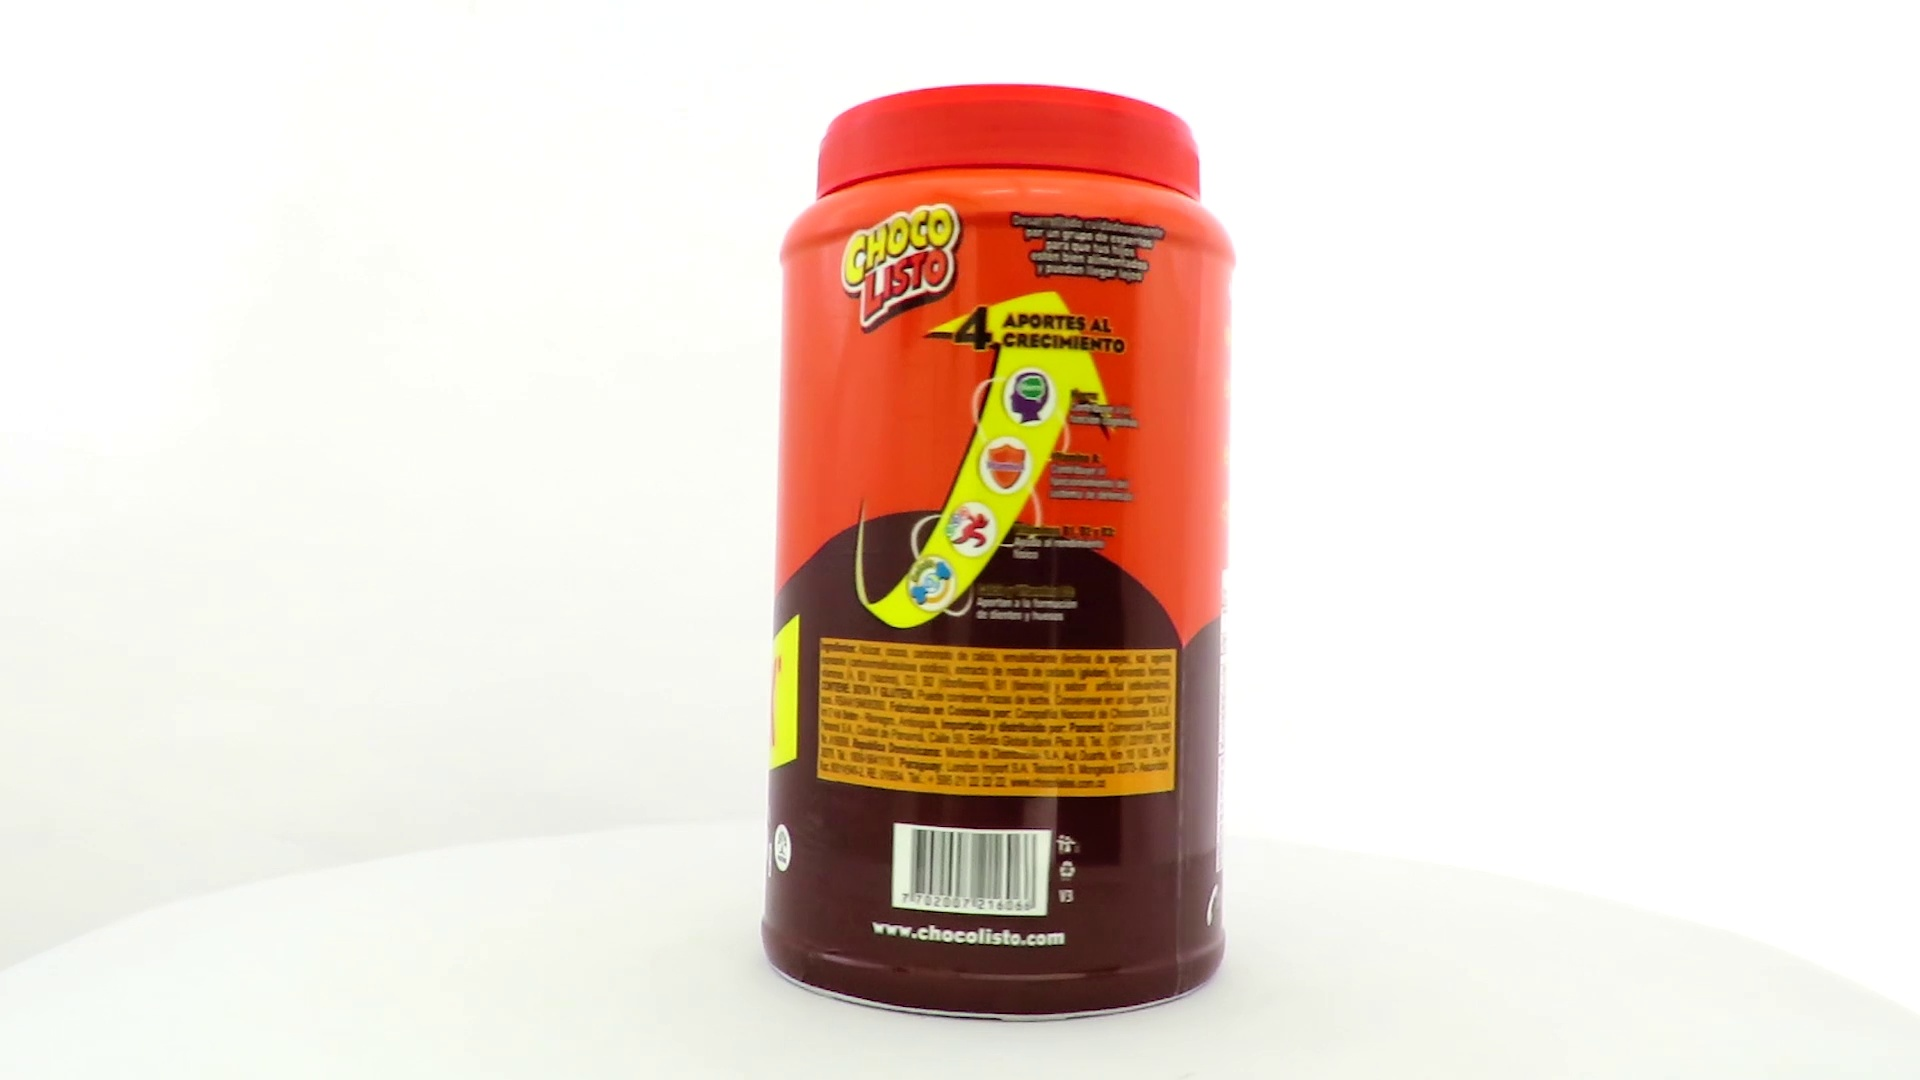COL0170103TRR00100: (756, 79, 1236, 1029)
